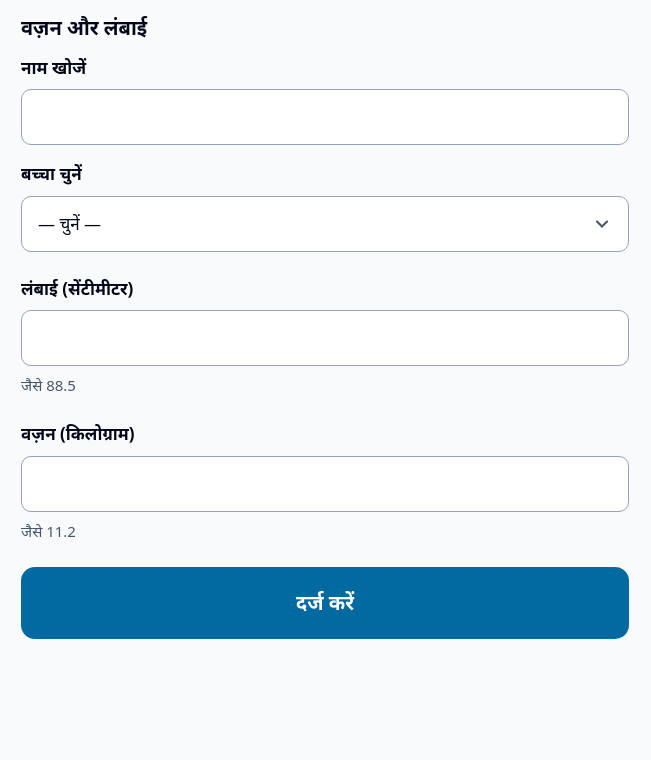
Test case: Growth screen › tells the worker to refer a severely malnourished child
Select "कमला डामोर — 3साल" in the dropdown labelled "बच्चा चुनें" at (325, 224), box [21,196,629,252]
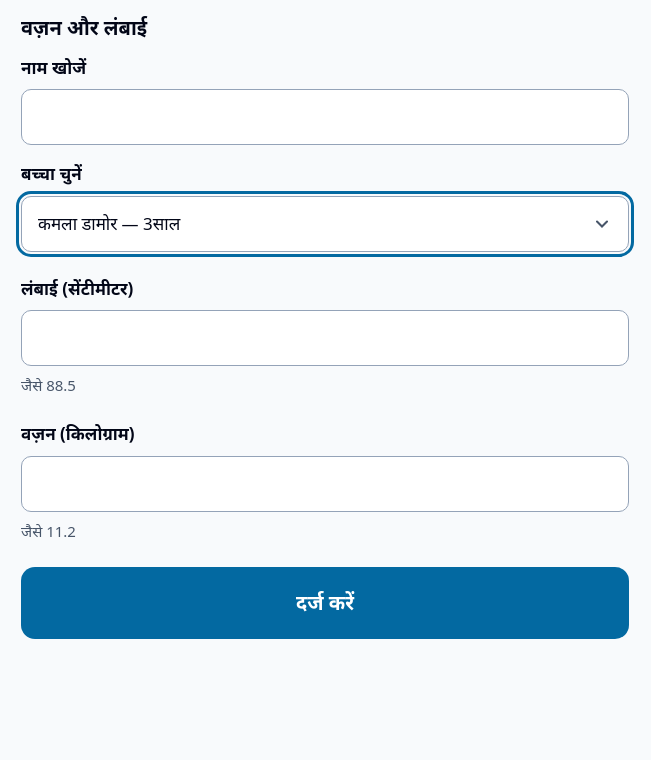
Type "88" into the field labelled "लंबाई (सेंटीमीटर)" at (325, 338), box [21,310,629,366]
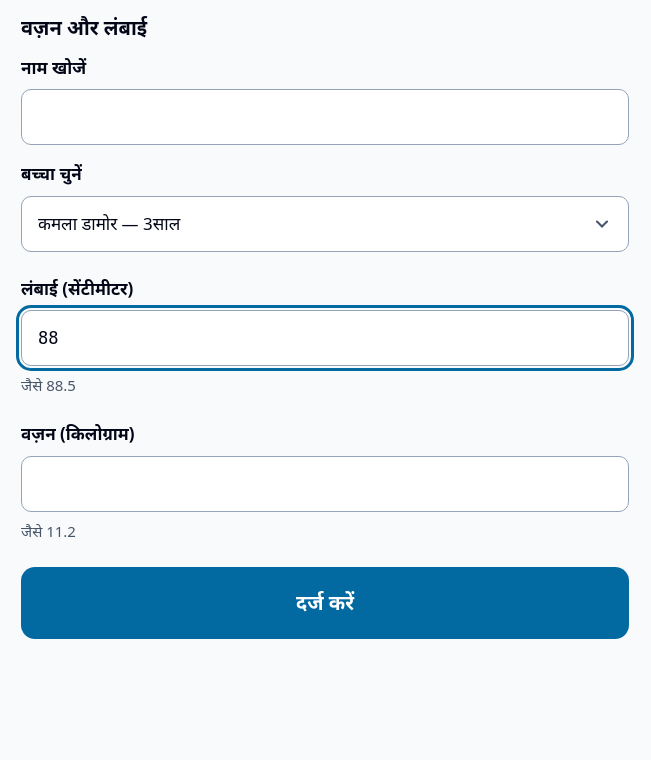
Type "8" into the field labelled "वज़न (किलोग्राम)" at (325, 484), box [21,456,629,512]
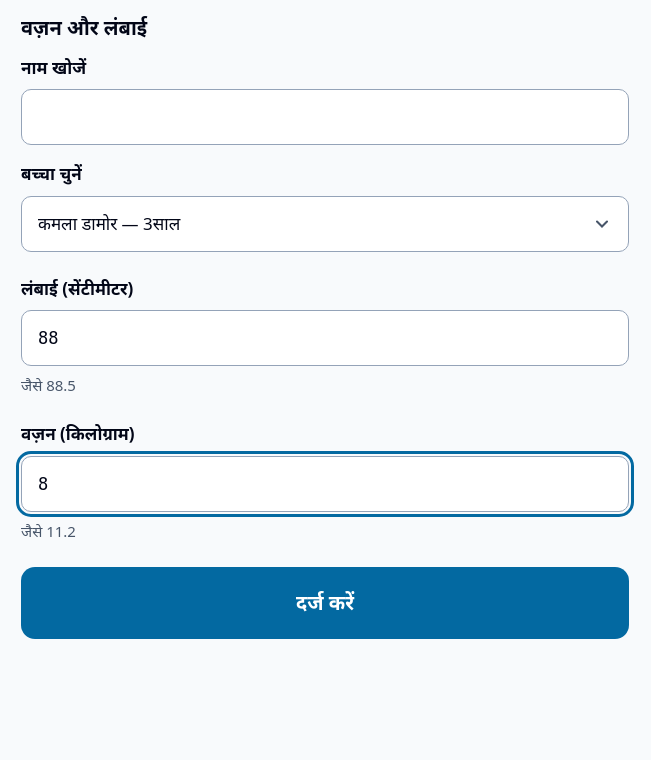
Click the button "दर्ज करें" at (325, 603), box [21,567,629,639]
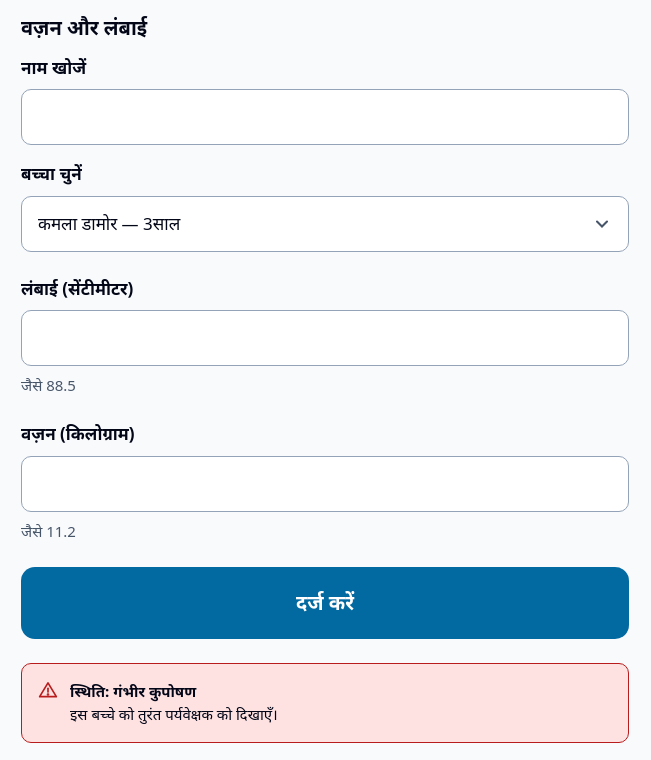
Now the text "स्थिति: गंभीर कुपोषण" is shown, box [70,681,196,701]
Now the text "इस बच्चे को तुरंत पर्यवेक्षक को दिखाएँ।" is shown, box [70,704,278,724]
